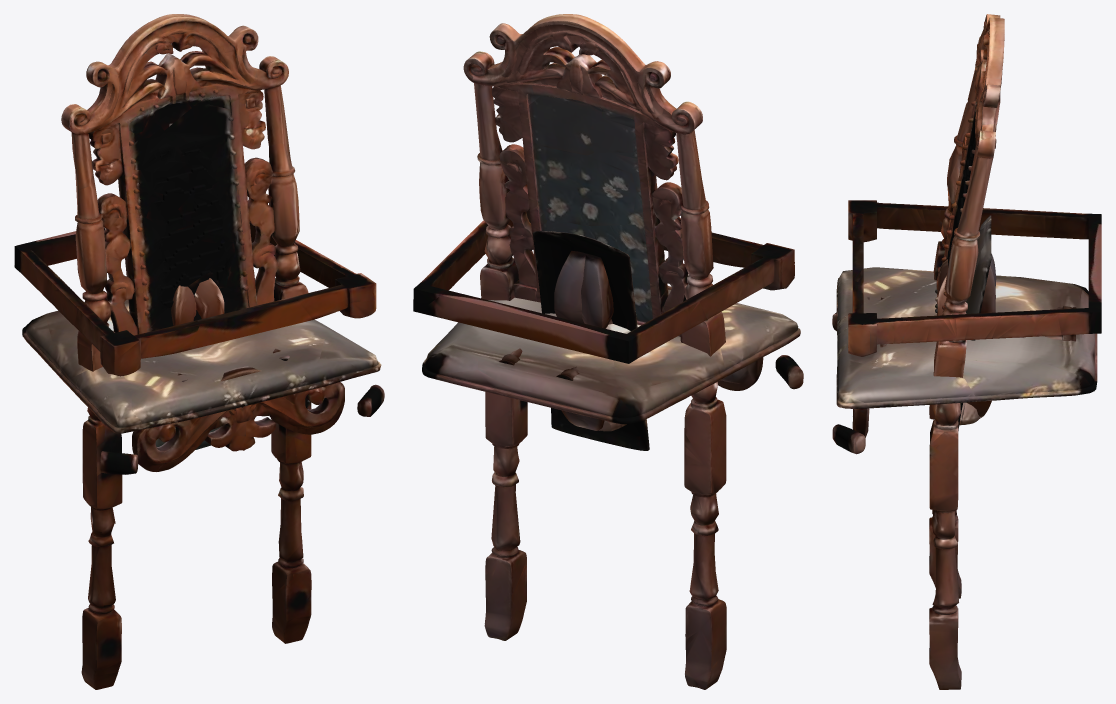
3 views of the same model, side by side, from view 1: azimuth 30°, elevation 25°; view 2: azimuth 150°, elevation 25°; view 3: azimuth 270°, elevation 25° (orthographic). The views are drawn at different scales.
Visible parts, largest first — view 1: root.0, root.2, root.1, root.5, root.4; view 2: root.0, root.1, root.2, root.3, root.4, root.5; view 3: root.1, root.0, root.2, root.3, root.4, root.5.
Boxes of the visible parts, box(x1,y1,x2,y2) form: root.0: box(61, 14, 311, 689); root.2: box(14, 224, 384, 474); root.1: box(22, 299, 381, 433); root.5: box(194, 278, 224, 318); root.4: box(171, 285, 196, 325); root.0: box(463, 14, 726, 689); root.1: box(422, 286, 800, 424); root.2: box(413, 209, 803, 390); root.3: box(532, 231, 649, 450); root.4: box(554, 251, 626, 431); root.5: box(571, 254, 613, 430); root.1: box(836, 267, 1097, 408); root.0: box(929, 14, 1004, 689); root.2: box(832, 200, 1101, 454); root.3: box(957, 215, 991, 430); root.4: box(937, 259, 995, 417); root.5: box(937, 253, 996, 425).
Bounding box in the file's own units: 19619 × 41440 × 16412.
Materials: 1 (1 with a texture image).
